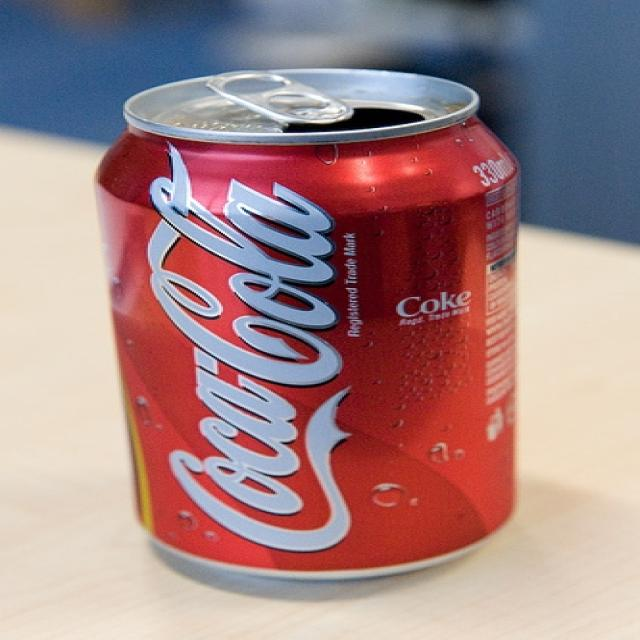cocacola: (120, 140, 378, 566)
